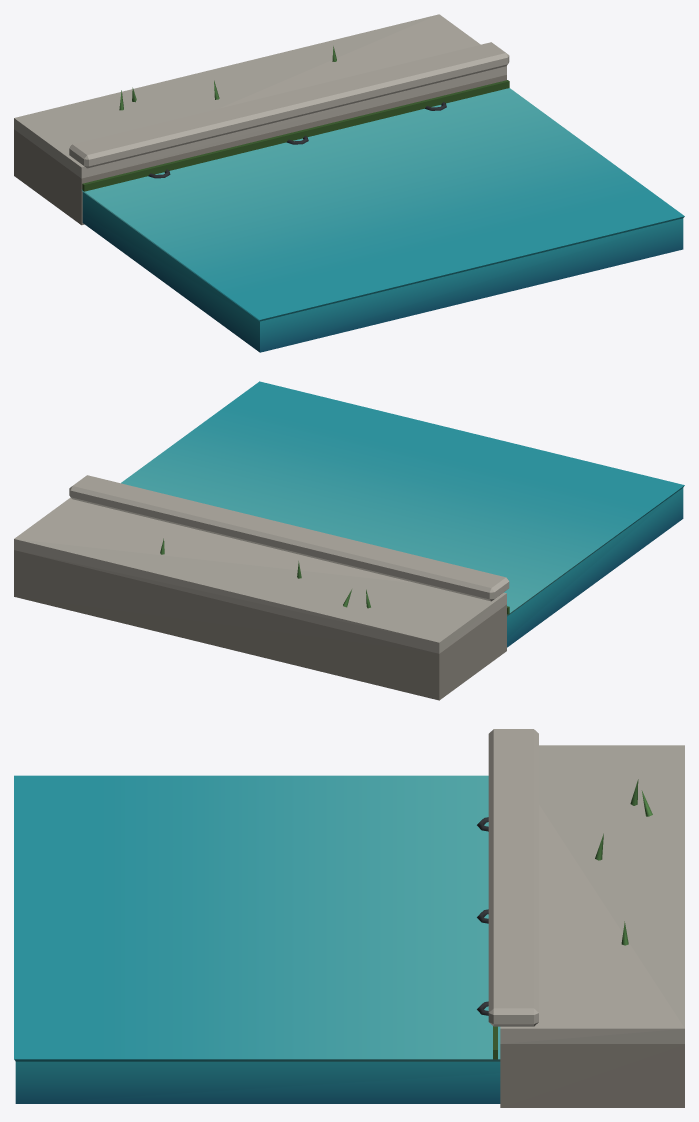
File: canal_seawall_tile.glb
3 renders of one model, top to bottom at view 1: azimuth 30°, elevation 25°; view 2: azimuth 150°, elevation 25°; view 3: azimuth 270°, elevation 25°, orthographic. The views are drawn at different scales.
Visible parts, largest first — view 1: canal_seawall_tile; view 2: canal_seawall_tile; view 3: canal_seawall_tile.
Boxes of the visible parts, <box> form: canal_seawall_tile: <box>14,14,684,352</box>; canal_seawall_tile: <box>14,381,684,700</box>; canal_seawall_tile: <box>14,729,684,1107</box>.
Bounding box in the file's own units: 4 × 0.6958 × 4.
